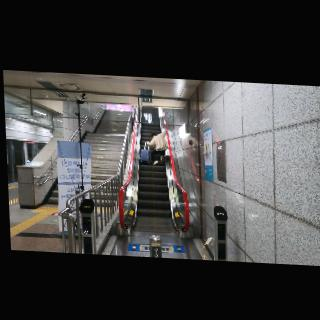anomaly: (140, 127, 175, 168)
